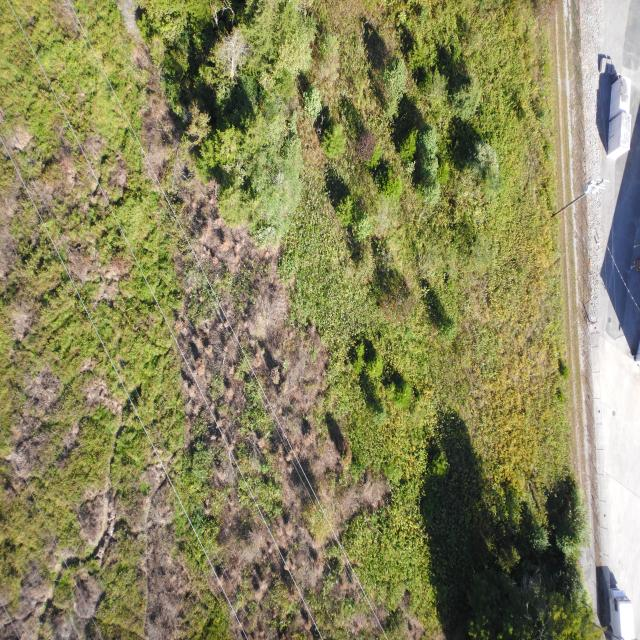Area of Interest: (196, 14, 315, 231)
